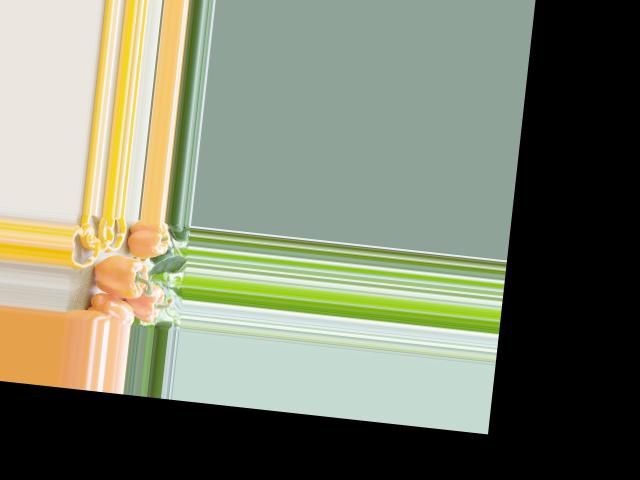bell_pepper: (85, 292, 137, 325)
